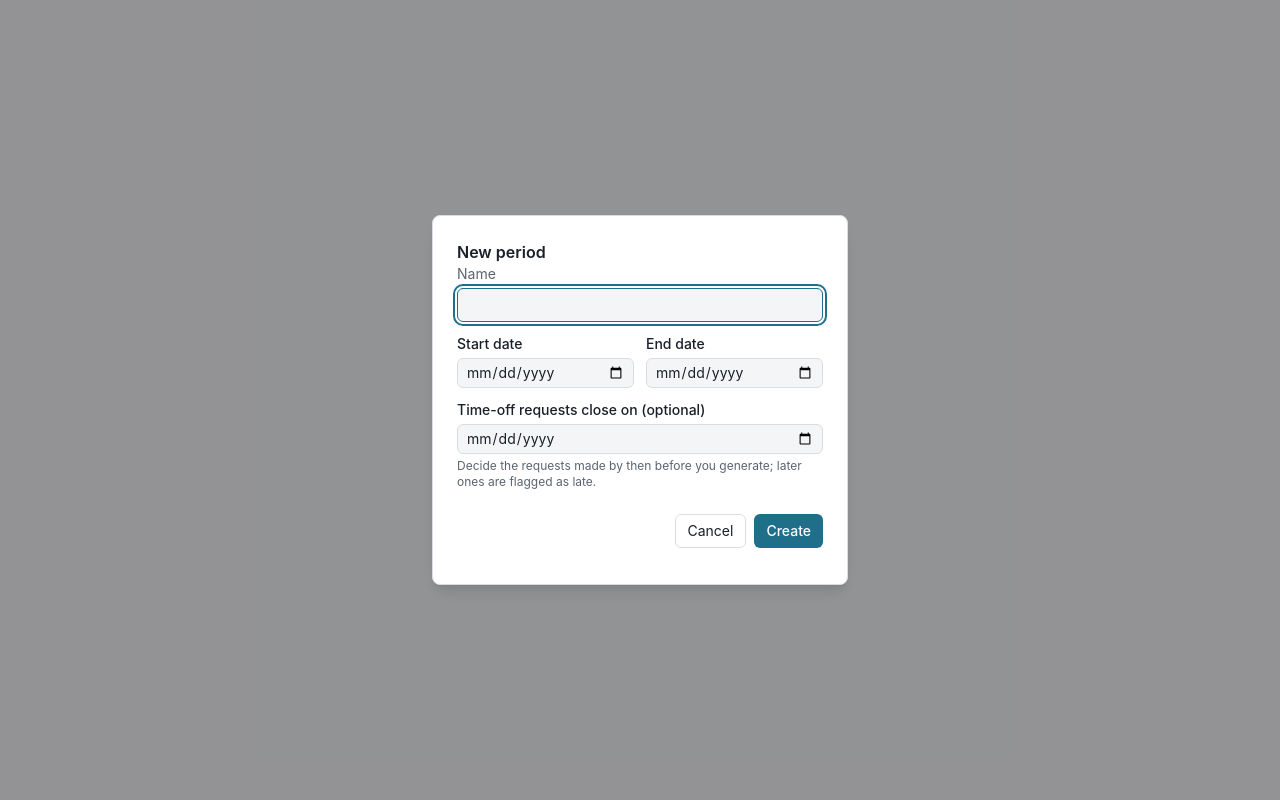
creating a scheduling period › refuses requests that close after the period starts
Expected: the form with test id "new-period-form" is shown, [457,264,823,548]
In the field labelled "Name": (640, 305) [457,288,823,322], type "Winter"
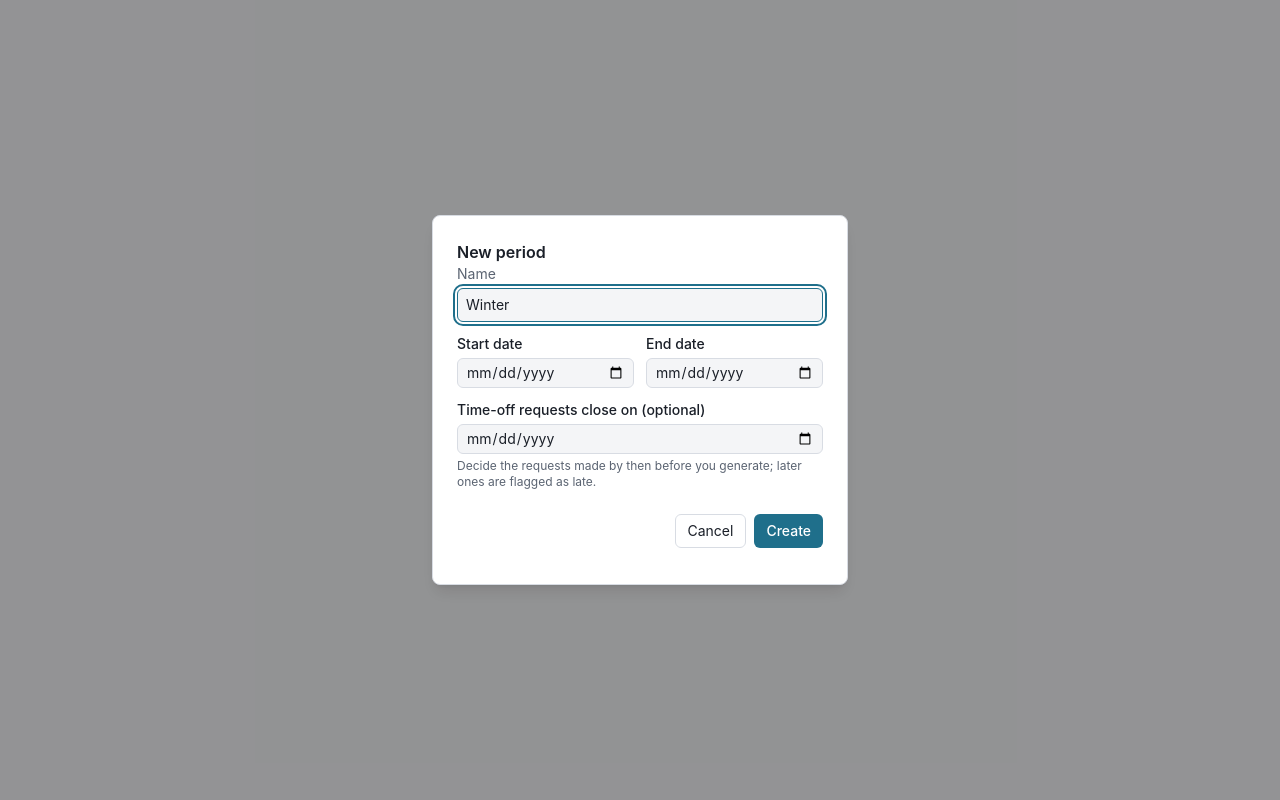
In the date field labelled "Start date": (546, 373) [457,358,634,388], type "2026-12-06"
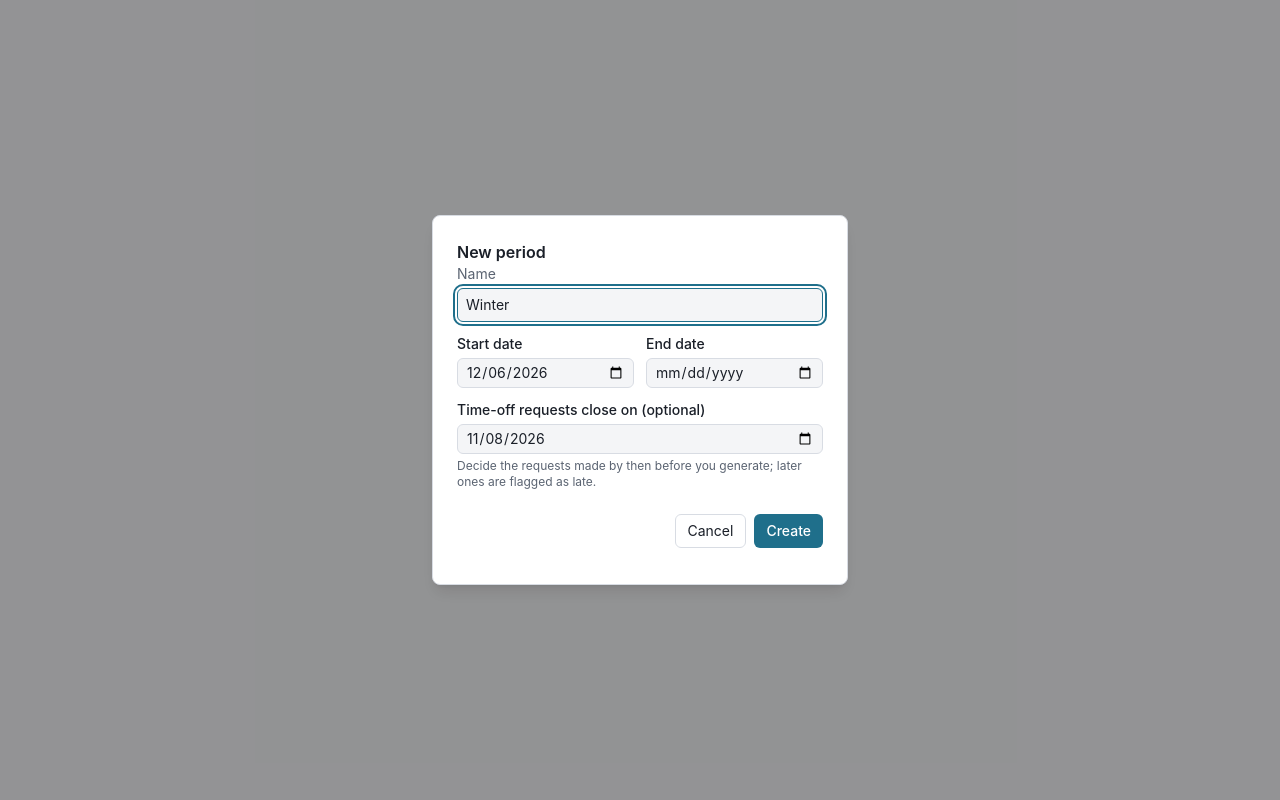
In the date field labelled "End date": (734, 373) [646,358,823,388], type "2027-01-16"
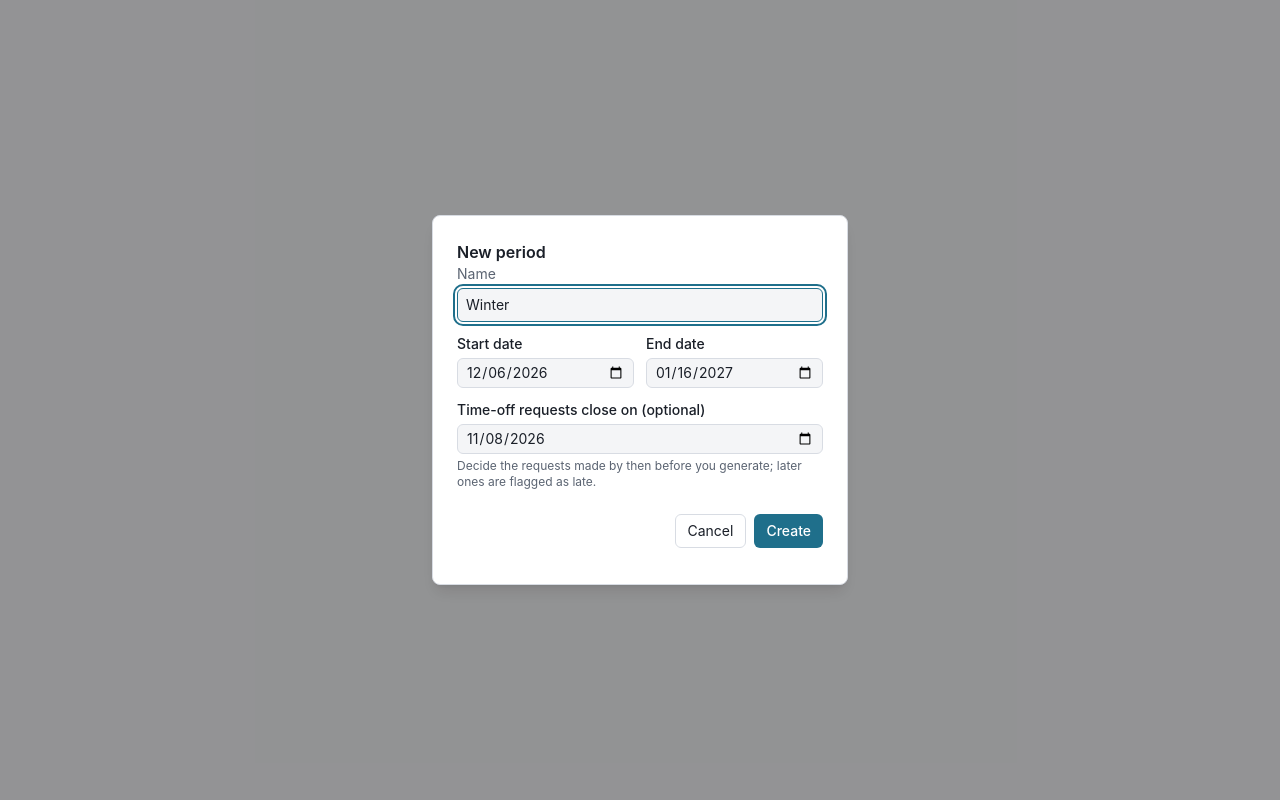
In the date field labelled "Time-off requests close on (optional)": (640, 439) [457,424,823,454], type "2026-12-10"
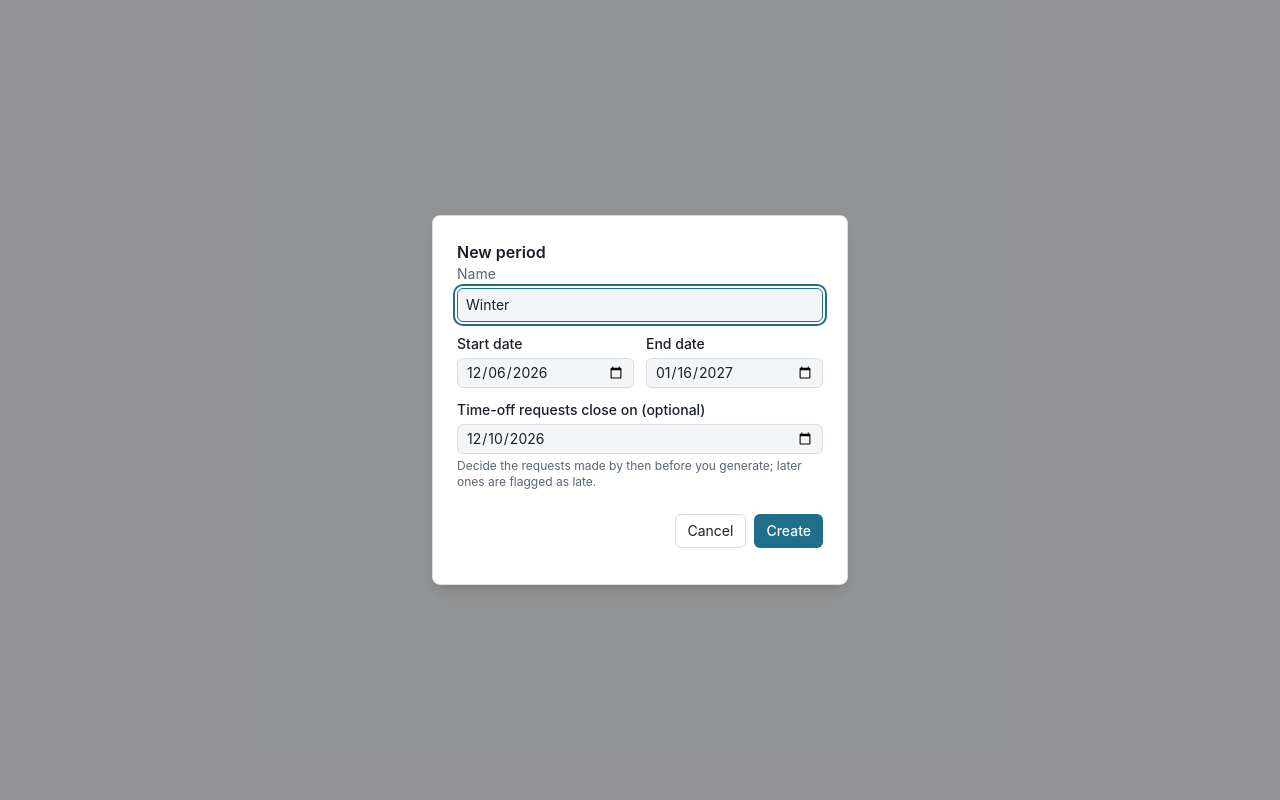
Click the button with test id "new-period-save": (789, 531) [754,514,823,548]
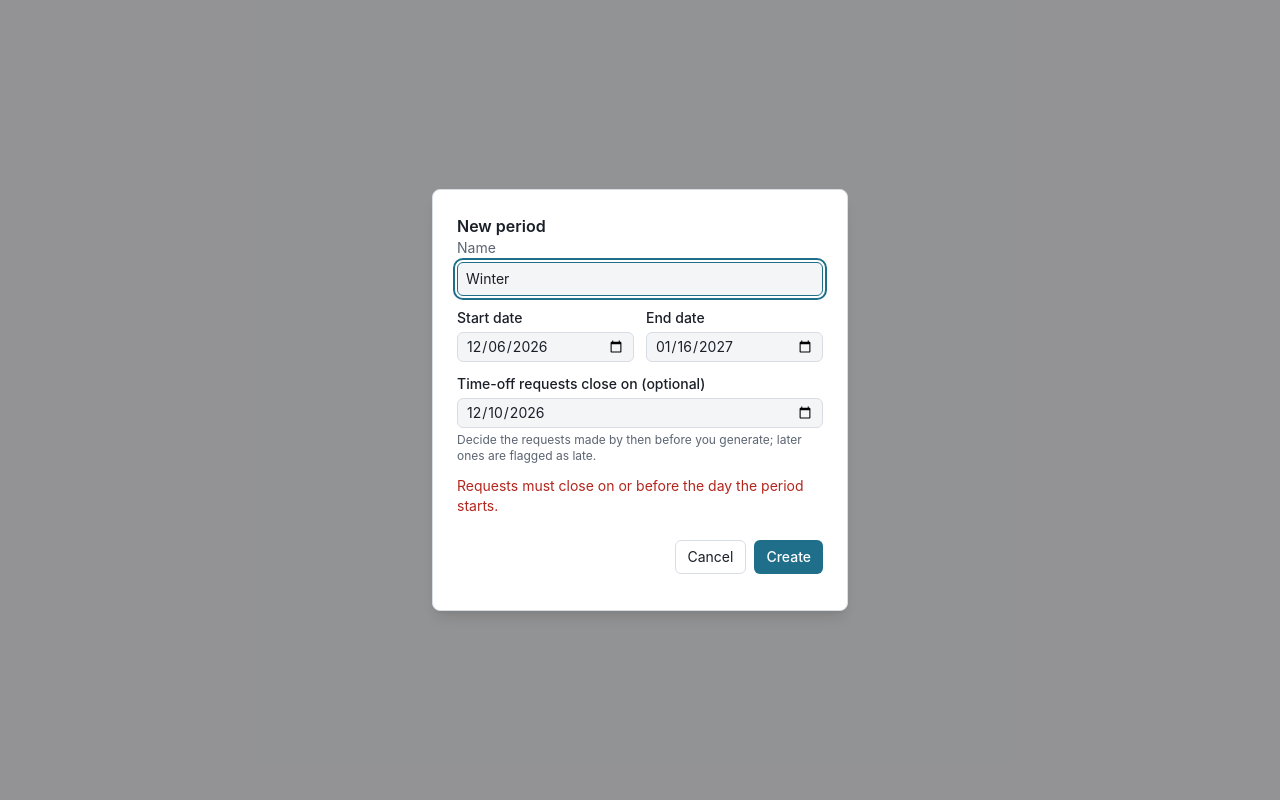
Expected: the message reads "Requests must close on or before the day the period starts.", [457,477,804,514]
